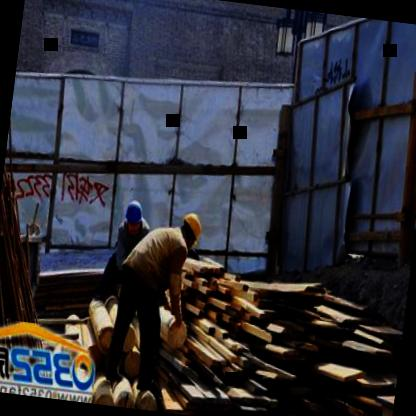helmet: (176, 207, 206, 251), (122, 197, 145, 238)
